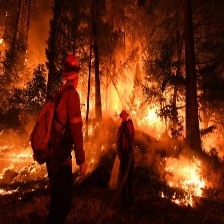fire: (1, 135, 48, 197), (163, 157, 205, 206), (126, 94, 168, 131), (79, 90, 113, 115)
